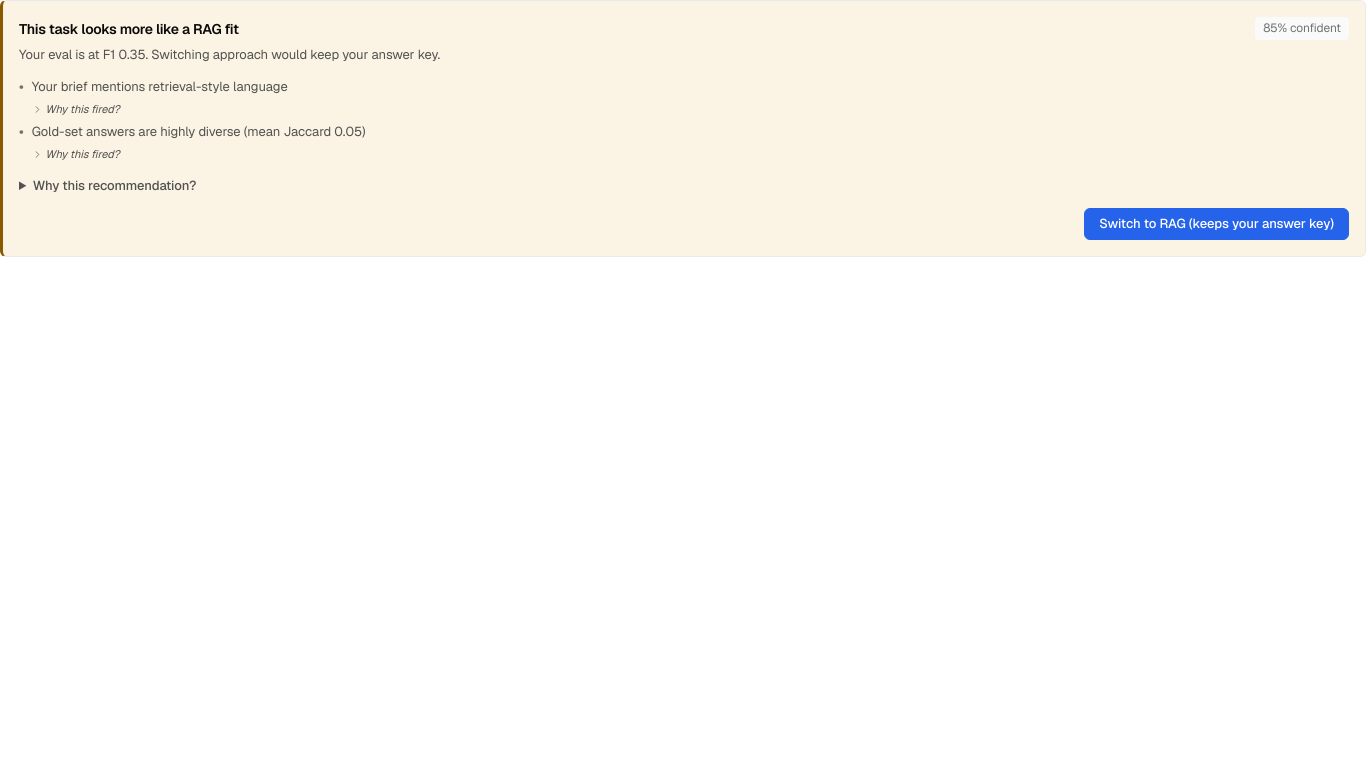
Test case: RerouteRecommendationPanel › opens the confirmation modal when "Switch to RAG" is clicked
The image size is (1366, 768).
Click the button with test id "reroute-card-cta" at (1217, 224), box [1084,208,1349,240]
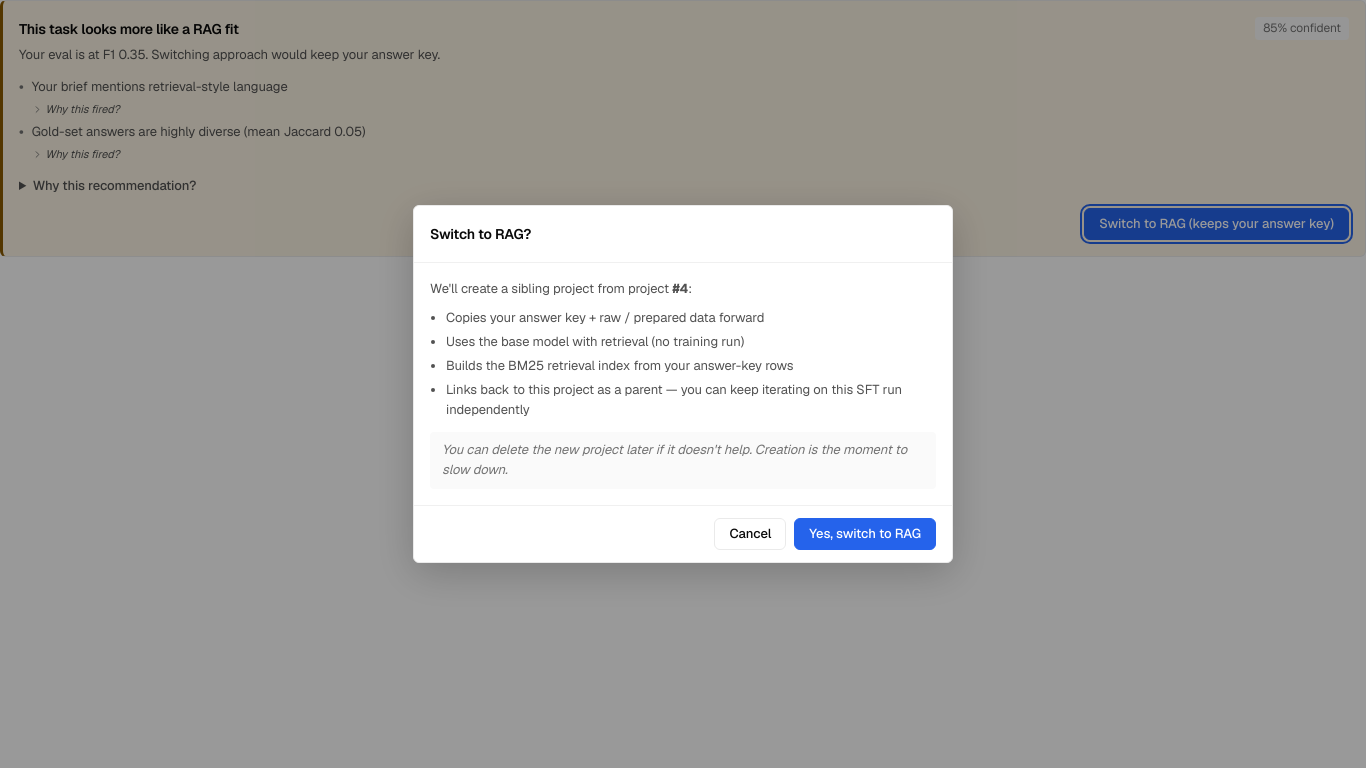
Check: the dialog with test id "reroute-modal" that starts with "Switch to RAG?" is shown
Check: the dialog with test id "reroute-modal" shows "#4"
